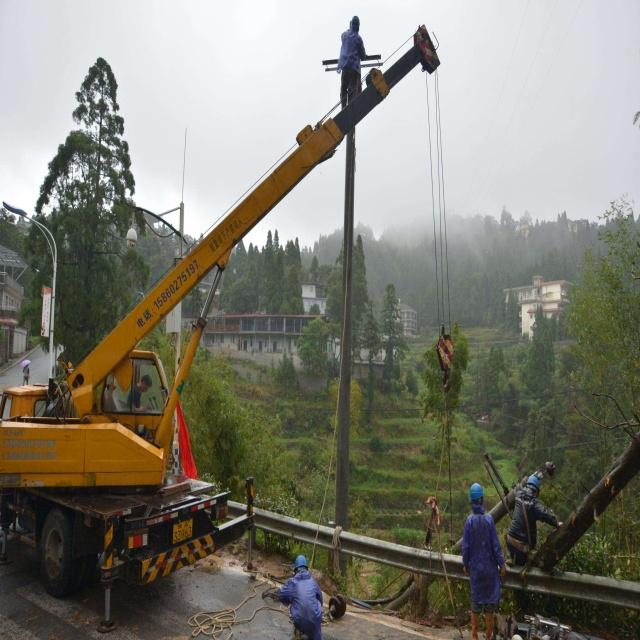helmet: (139, 497, 152, 528), (348, 19, 361, 44), (526, 633, 540, 640)
